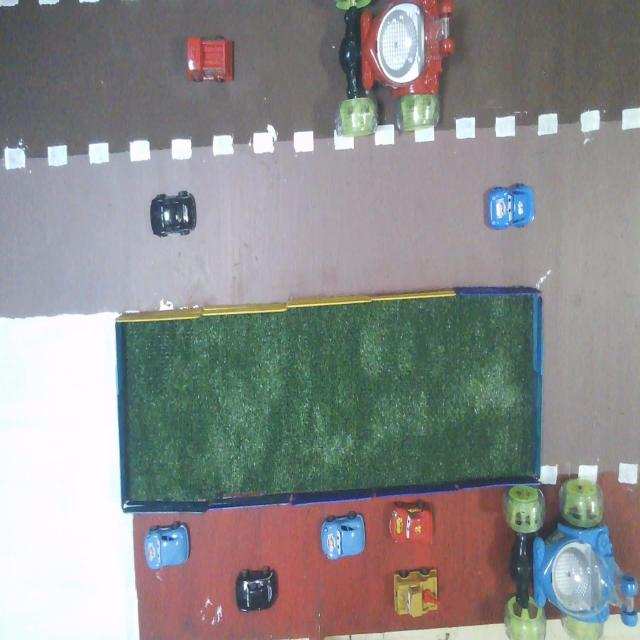driver car f: (503, 479, 638, 639)
small cars: (394, 569, 438, 617), (151, 191, 196, 237), (321, 512, 365, 559), (488, 185, 534, 229), (145, 523, 189, 569), (187, 37, 233, 81), (236, 567, 277, 612), (390, 501, 432, 543)
